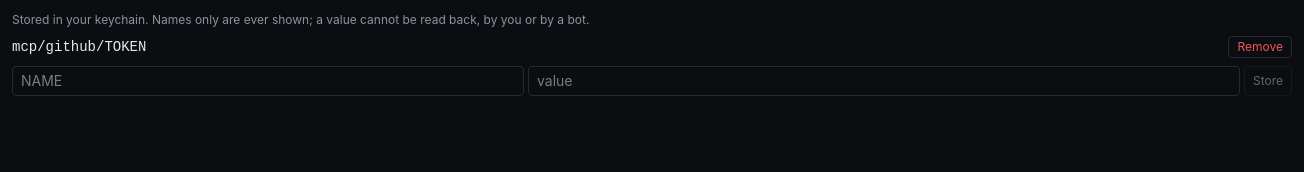
Test: SecretsPanel › stores a new secret from a masked field and clears it
Expected: the text "mcp/github/TOKEN" is shown, [12, 39, 146, 55]
Type "NEW" into the field with placeholder "NAME".
click(268, 81); type("NEW")  # box [12, 66, 524, 96]
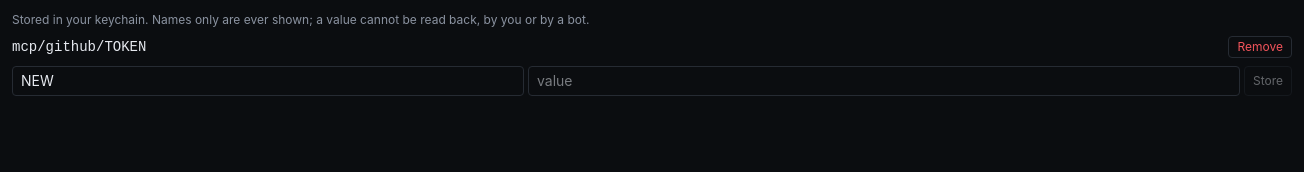
Type "hunter2" into the password field with placeholder "value".
click(884, 81); type("hunter2")  # box [528, 66, 1240, 96]
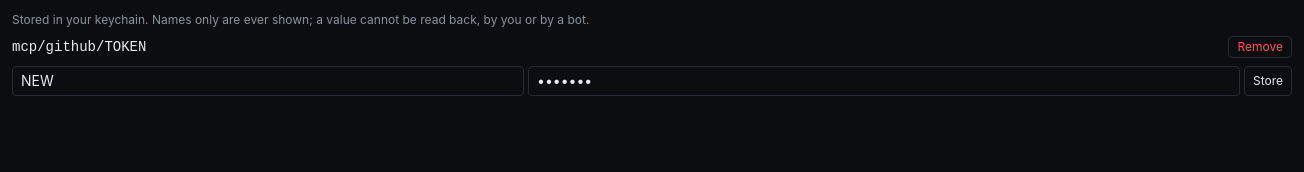
Click the button "Store".
click(1268, 81)  # box [1244, 66, 1292, 96]
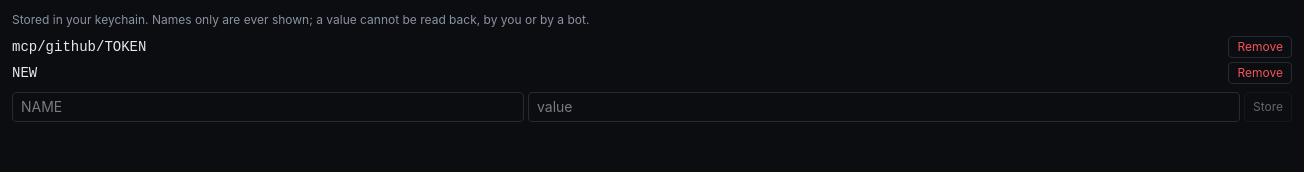
Expected: the text "NEW" is shown, [12, 65, 37, 81]
Expected: the password field with placeholder "value" is empty, [528, 92, 1240, 122]
